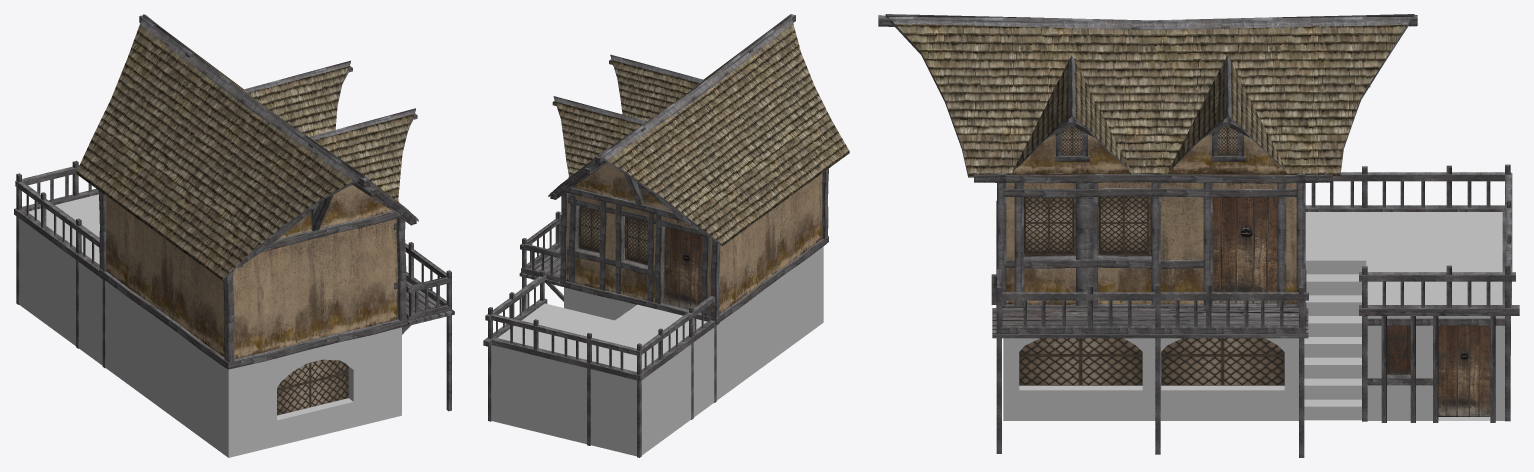
File: v3_house2.dae
3 renders of one model, left to right at view 1: azimuth 30°, elevation 25°; view 2: azimuth 150°, elevation 25°; view 3: azimuth 270°, elevation 25°, orthographic. The views are drawn at different scales.
Parts seen in each view (by area): view 1: roof_01, bricks_old06, con_dirt_01, woodPlanks, doorwindow_set; view 2: bricks_old06, roof_01, woodPlanks, con_dirt_01, doorwindow_set; view 3: woodPlanks, roof_01, bricks_old06, doorwindow_set, con_dirt_01.
Part boxes in pixels (x1,y1,x2,y2): roof_01: [76, 25, 416, 280]; bricks_old06: [19, 194, 401, 457]; con_dirt_01: [106, 184, 399, 358]; woodPlanks: [14, 14, 454, 411]; doorwindow_set: [277, 359, 348, 415]; bricks_old06: [491, 246, 823, 456]; roof_01: [549, 24, 849, 245]; woodPlanks: [483, 14, 828, 457]; con_dirt_01: [566, 163, 822, 315]; doorwindow_set: [578, 206, 702, 312]; woodPlanks: [878, 14, 1519, 457]; roof_01: [895, 23, 1406, 177]; bricks_old06: [1003, 212, 1504, 420]; doorwindow_set: [1019, 126, 1490, 416]; con_dirt_01: [1006, 133, 1296, 304].
Size of the model in its own units: 6.81 by 8.28 by 13.16.
